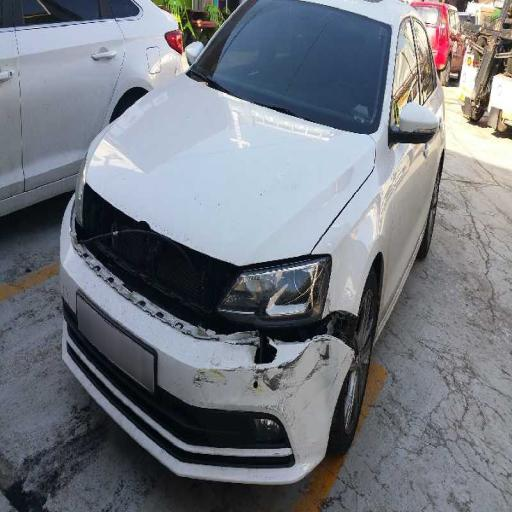broken: (175, 218, 383, 422)
scratch: (250, 348, 340, 392)
